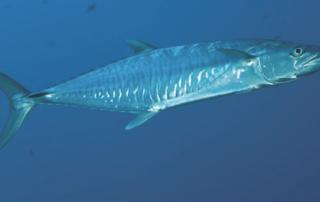Scombridae -Tunas-: (0, 33, 320, 162)
